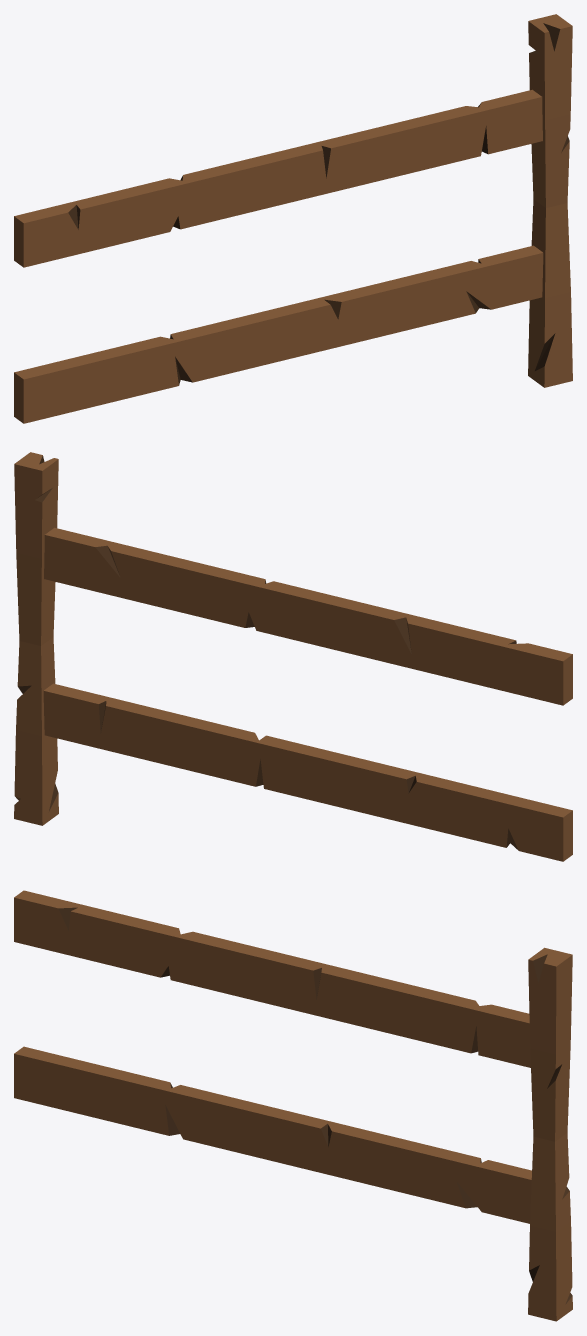
The model's file is Fence_2_Light_Brown.fbx.
3 views of the same model, one above another, from view 1: azimuth 30°, elevation 25°; view 2: azimuth 150°, elevation 25°; view 3: azimuth 330°, elevation 25° (orthographic).
Visible parts, largest first — view 1: Fence_2_Light_Brown; view 2: Fence_2_Light_Brown; view 3: Fence_2_Light_Brown.
Boxes of the visible parts, x1=… form: Fence_2_Light_Brown: x1=14, y1=14, x2=572, y2=423; Fence_2_Light_Brown: x1=14, y1=452, x2=572, y2=861; Fence_2_Light_Brown: x1=14, y1=890, x2=572, y2=1321.
Bounding box in the file's own units: 193 × 120 × 10.09.
